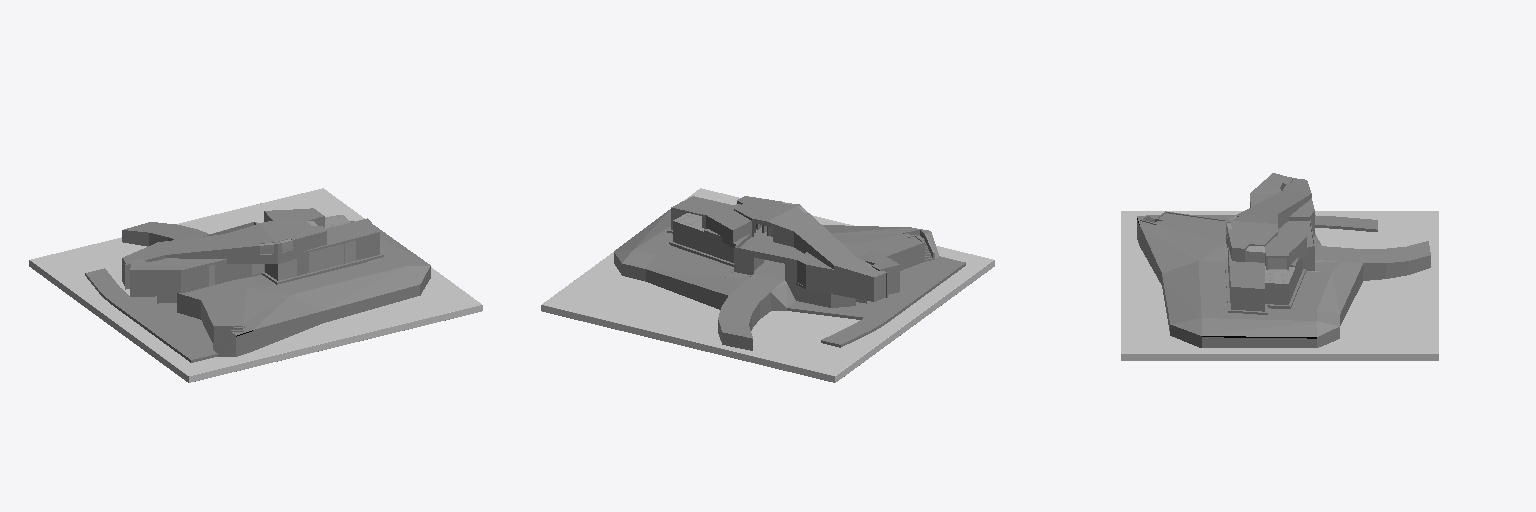
Rendered from map.obj.
3 renders of one model, left to right at view 1: azimuth 30°, elevation 25°; view 2: azimuth 150°, elevation 25°; view 3: azimuth 270°, elevation 25°, orthographic.
Visible parts, largest first — view 1: BATI, SOCLE, VITRES, COUPE_TERRAIN; view 2: BATI, SOCLE, COUPE_TERRAIN, VITRES; view 3: BATI, SOCLE, COUPE_TERRAIN, VITRES.
Boxes of the visible parts, box(x1,y1,x2,y2) form: BATI: box(86, 208, 430, 359); SOCLE: box(29, 188, 482, 382); VITRES: box(123, 215, 379, 294); COUPE_TERRAIN: box(85, 230, 430, 362); BATI: box(614, 196, 965, 344); SOCLE: box(541, 188, 994, 382); COUPE_TERRAIN: box(614, 253, 965, 350); VITRES: box(673, 202, 898, 306); BATI: box(1137, 173, 1430, 336); SOCLE: box(1121, 211, 1438, 360); COUPE_TERRAIN: box(1137, 218, 1430, 347); VITRES: box(1227, 204, 1313, 309).
Size of the model in its own units: 1797 by 387 by 1686.